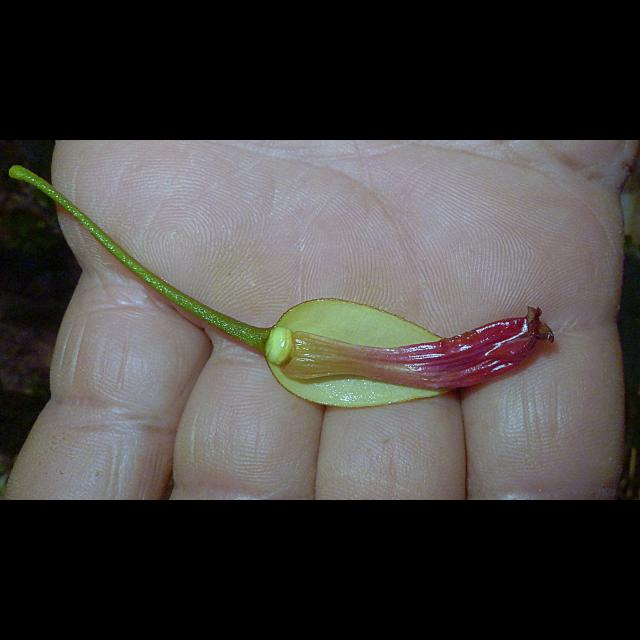Flower: (268, 306, 554, 389)
